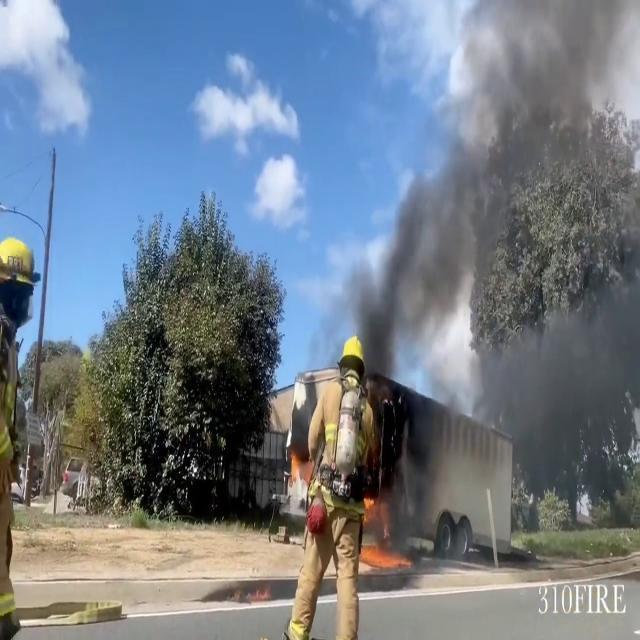Smoke: (350, 0, 640, 377), (453, 266, 638, 476)
